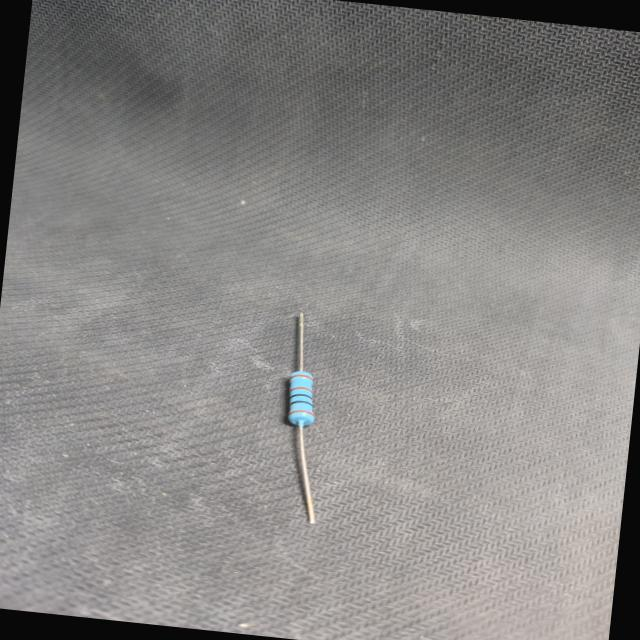resistor: (253, 300, 362, 536)
